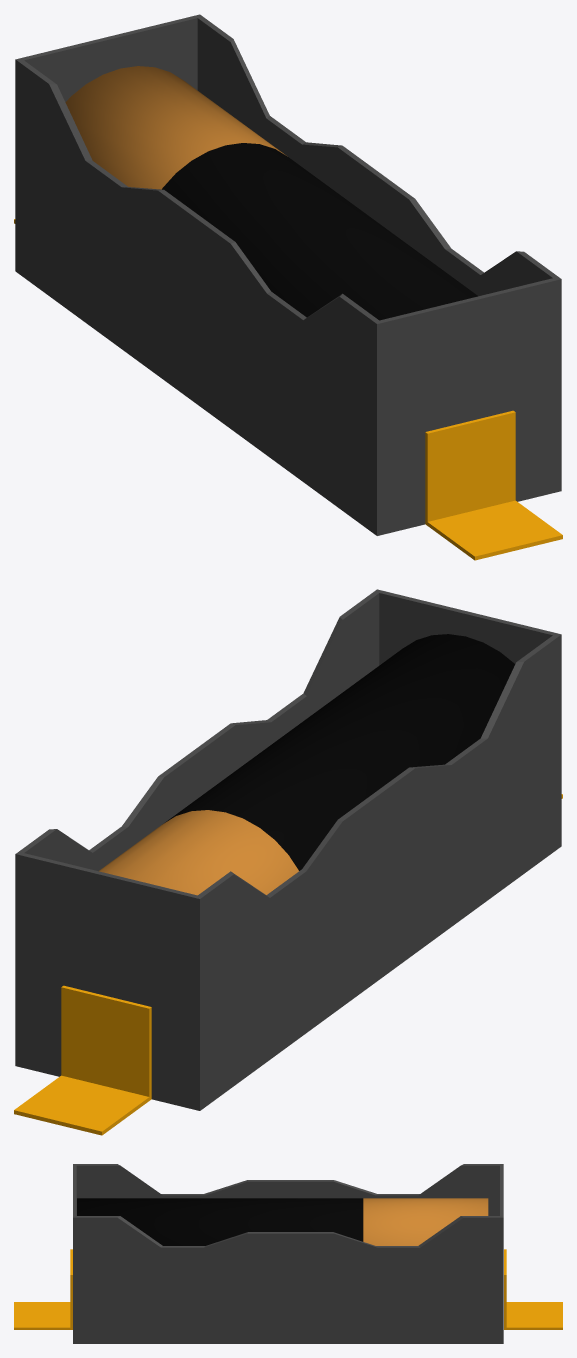
File: battery.obj
3 views of the same model, one above another, from view 1: azimuth 30°, elevation 25°; view 2: azimuth 150°, elevation 25°; view 3: azimuth 270°, elevation 25° (orthographic). The views are drawn at different scales.
Parts seen in each view (by area): view 1: Cube.001_Cube; view 2: Cube.001_Cube; view 3: Cube.001_Cube.
Boxes of the visible parts, x1,y1,x2,y2 form: Cube.001_Cube: (14, 14, 562, 560); Cube.001_Cube: (14, 589, 562, 1135); Cube.001_Cube: (14, 1164, 562, 1343).
Size of the model in its own units: 3.39 by 3.72 by 14.65.
